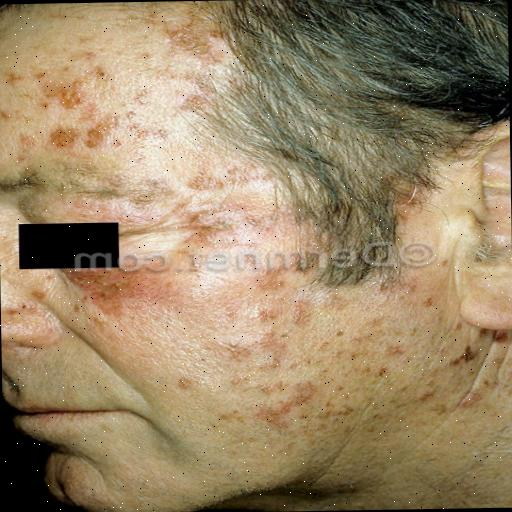Skin_Lesion: (56, 266, 162, 318), (251, 376, 321, 445), (235, 297, 312, 358), (325, 334, 408, 386), (43, 115, 135, 160), (49, 59, 109, 113), (174, 198, 238, 244), (430, 338, 492, 380), (180, 160, 244, 196), (166, 25, 212, 65), (164, 366, 200, 398)
